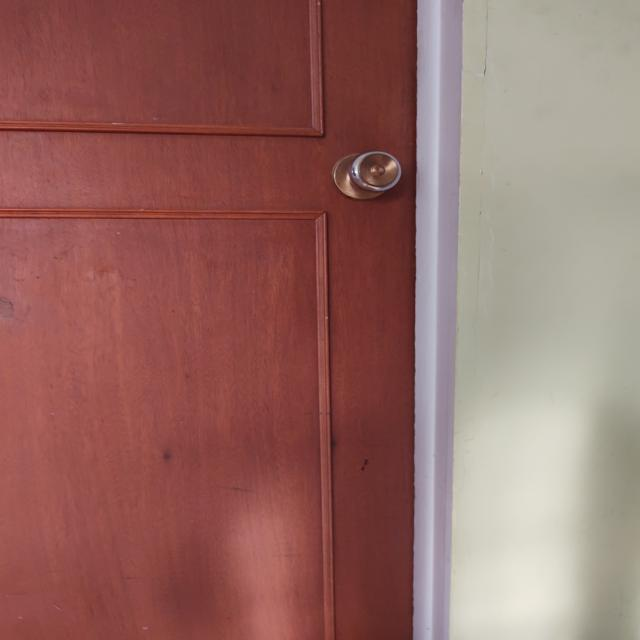door-knob: (332, 151, 401, 200)
